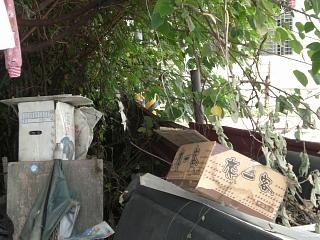box: (164, 140, 291, 223), (15, 99, 77, 163)
